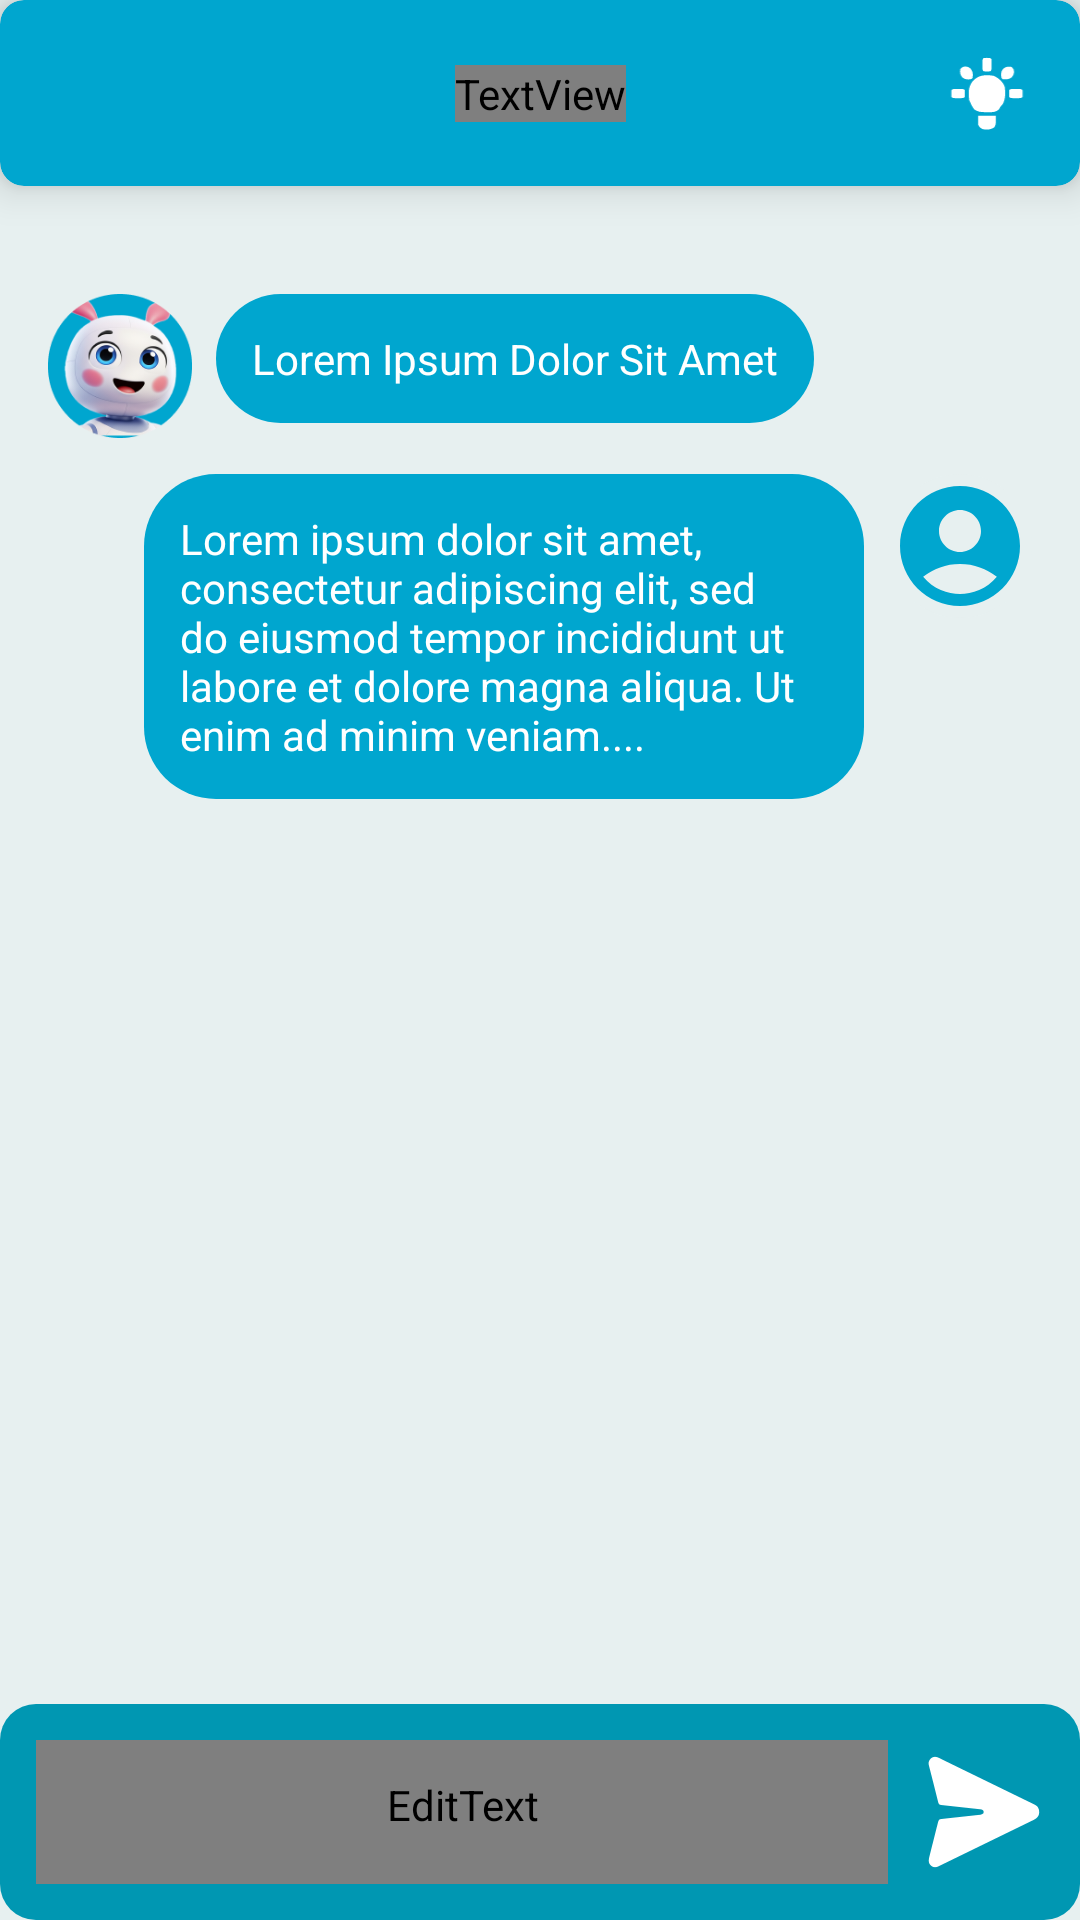

Screen size 1080x1920. Icon name, then its box in pixels as (x1, y1, x2, y2):
chatbot: (48, 294, 192, 438)
Kirim: (928, 1756, 1040, 1868)
User: (900, 486, 1020, 606)
